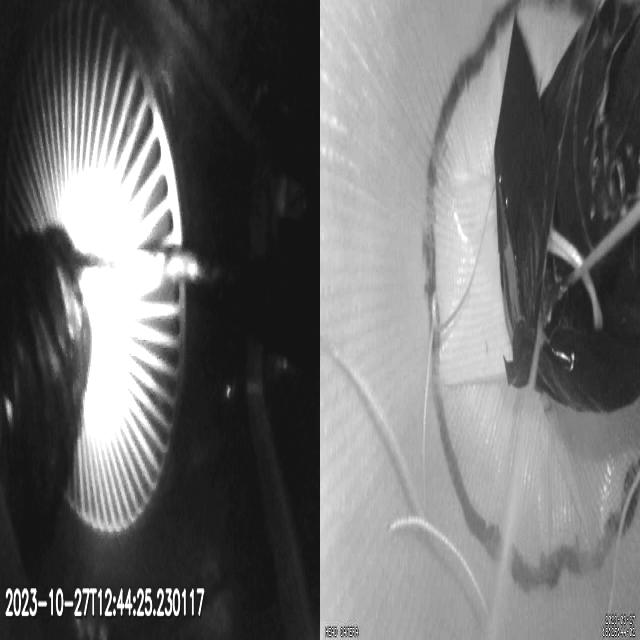red-circle: (423, 0, 640, 588)
